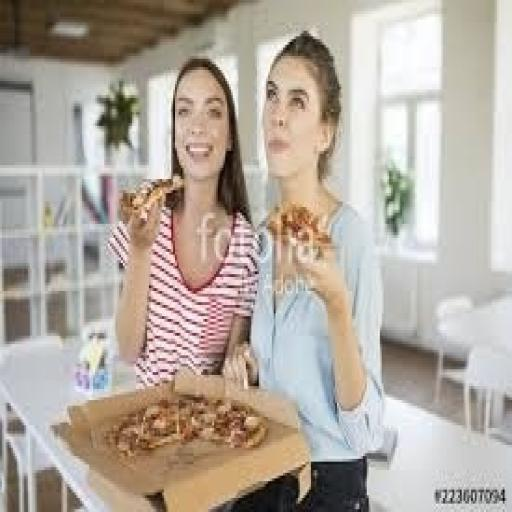eating: (248, 28, 386, 509), (104, 53, 261, 389)
